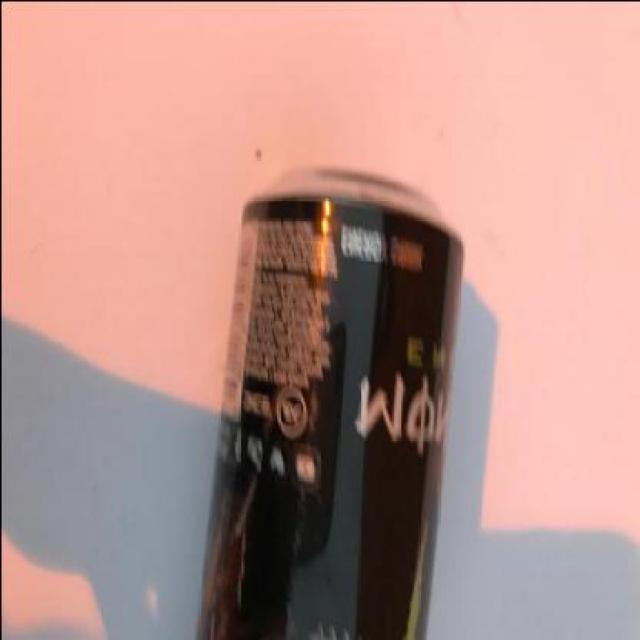METAL: (191, 164, 466, 638)
